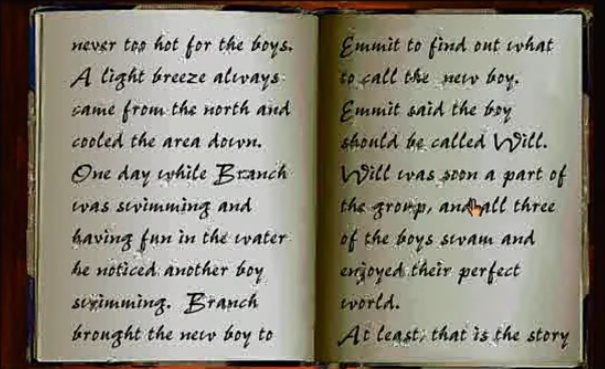Pointer: (464, 193, 486, 219)
